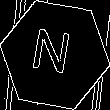N_S: (32, 27, 78, 83)
